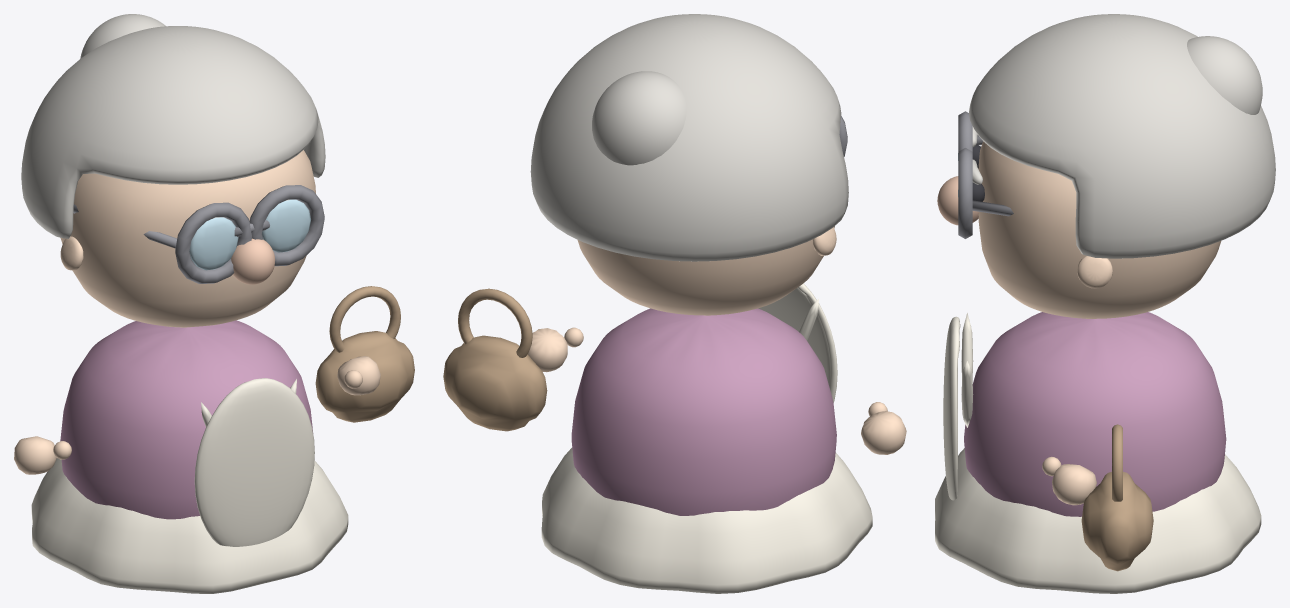
Rendered from Pedestrian_Granny.fbx.
3 views of the same model, side by side, from view 1: azimuth 30°, elevation 25°; view 2: azimuth 150°, elevation 25°; view 3: azimuth 270°, elevation 25° (orthographic). The views are drawn at different scales.
Visible parts, largest first — view 1: PedHair, PedBody, PedHead, PedSkirt, PedApron, PedBag, PedGlassL, PedGlassR, PedGlassLLens, PedGlassRLens, PedNose, PedBagStrap (+4 smaller); view 2: PedHair, PedBody, PedSkirt, PedHead, PedBag, PedBun, PedApron, PedBagStrap, PedHandL, PedHandR; view 3: PedHair, PedBody, PedSkirt, PedHead, PedBag, PedBun, PedApron, PedHandR, PedGlassR, PedEarR, PedNose, PedBagStrap (+3 smaller).
Part boxes in pixels (x1,y1,x2,y2): PedHair: (21, 26, 325, 238); PedBody: (60, 320, 313, 519); PedHead: (60, 150, 315, 327); PedSkirt: (31, 458, 348, 593); PedApron: (194, 378, 314, 546); PedBag: (315, 331, 414, 422); PedGlassL: (175, 202, 251, 283); PedGlassR: (249, 185, 324, 266); PedGlassLLens: (189, 217, 238, 270); PedGlassRLens: (262, 199, 310, 252); PedNose: (231, 238, 275, 284); PedBagStrap: (329, 286, 400, 352); PedHair: (530, 14, 848, 261); PedBody: (571, 308, 836, 515); PedSkirt: (541, 447, 872, 593); PedHead: (577, 226, 834, 315); PedBag: (443, 335, 547, 431); PedBun: (592, 71, 686, 165); PedApron: (758, 283, 837, 402); PedBagStrap: (458, 288, 532, 357); PedHandL: (861, 411, 906, 454); PedHandR: (528, 328, 567, 372); PedHair: (969, 14, 1275, 258); PedBody: (964, 312, 1226, 516); PedSkirt: (935, 448, 1261, 593); PedHead: (978, 141, 1221, 318); PedBag: (1081, 472, 1153, 571); PedBun: (1187, 36, 1262, 114); PedApron: (943, 316, 960, 500); PedHandR: (1052, 464, 1096, 505); PedGlassR: (958, 148, 972, 238); PedEarR: (1077, 256, 1112, 288); PedNose: (937, 176, 978, 225); PedBagStrap: (1112, 424, 1122, 501).
Bounding box in the file's own units: 132 × 146 × 90.72.
